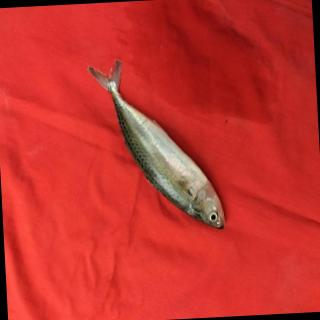Ikan: (66, 37, 237, 250)
